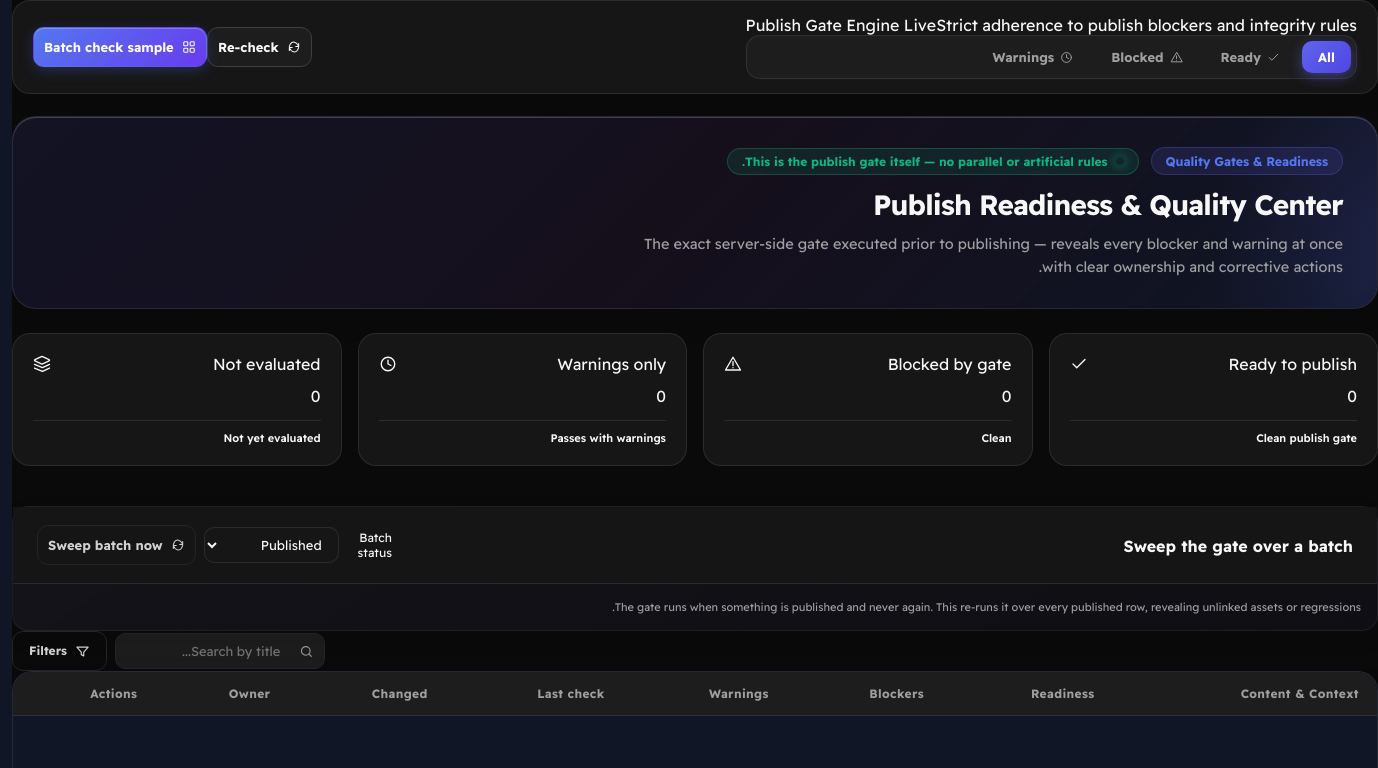
مسح البوابة › لا شيء محجوب يُعرض مع عدد المفحوص لا كجملة مجرّدة
Click the button "Sweep batch now".
click(116, 545)  # box [37,525,196,565]
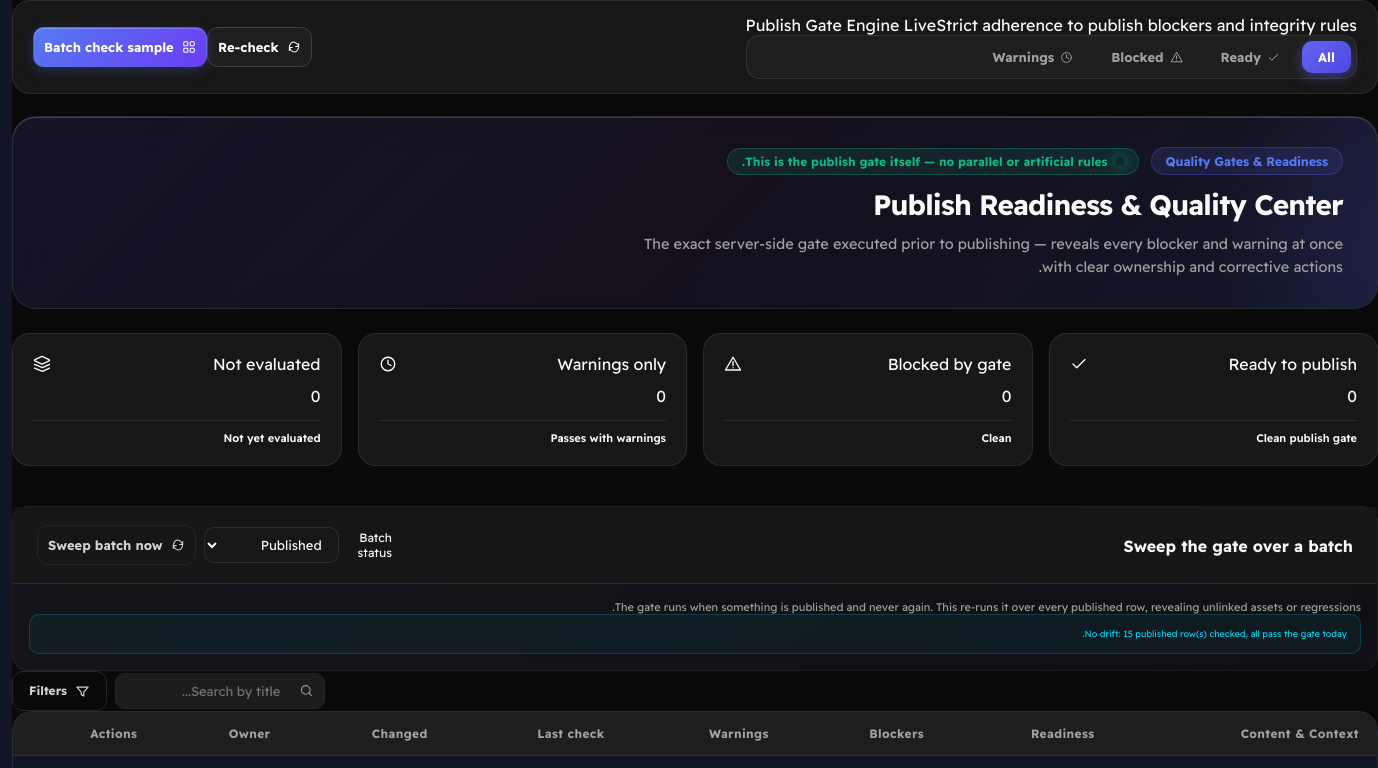
Now the text "15 published row(s) checked" is shown, box [1082,628,1347,639]
